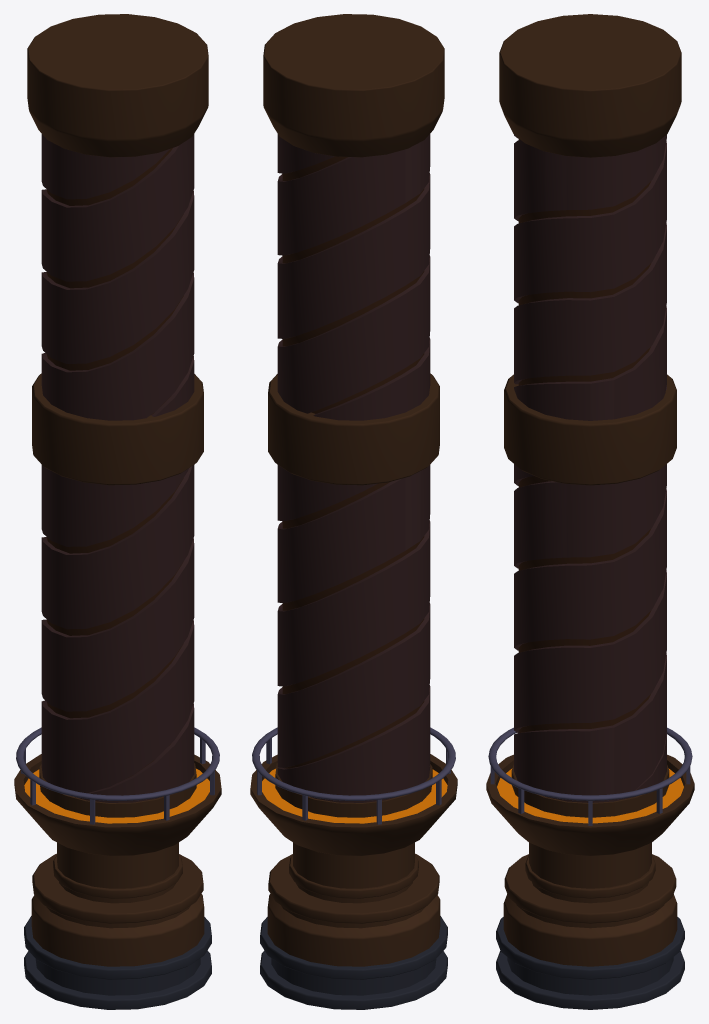
File: STATIC_Colonne_2000.fbx
The picture shows the model from 3 angles, left to right: view 1: azimuth 30°, elevation 25°; view 2: azimuth 150°, elevation 25°; view 3: azimuth 270°, elevation 25°; orthographic projection.
Parts seen in each view (by area): view 1: STATIC_Colonne_2000; view 2: STATIC_Colonne_2000; view 3: STATIC_Colonne_2000.
Part boxes in pixels (box(x1,y1,x2,y2)): STATIC_Colonne_2000: box(14, 14, 221, 1009); STATIC_Colonne_2000: box(250, 14, 457, 1009); STATIC_Colonne_2000: box(486, 14, 694, 1009).
Bounding box in the file's own units: 20.85 × 102 × 20.85.
